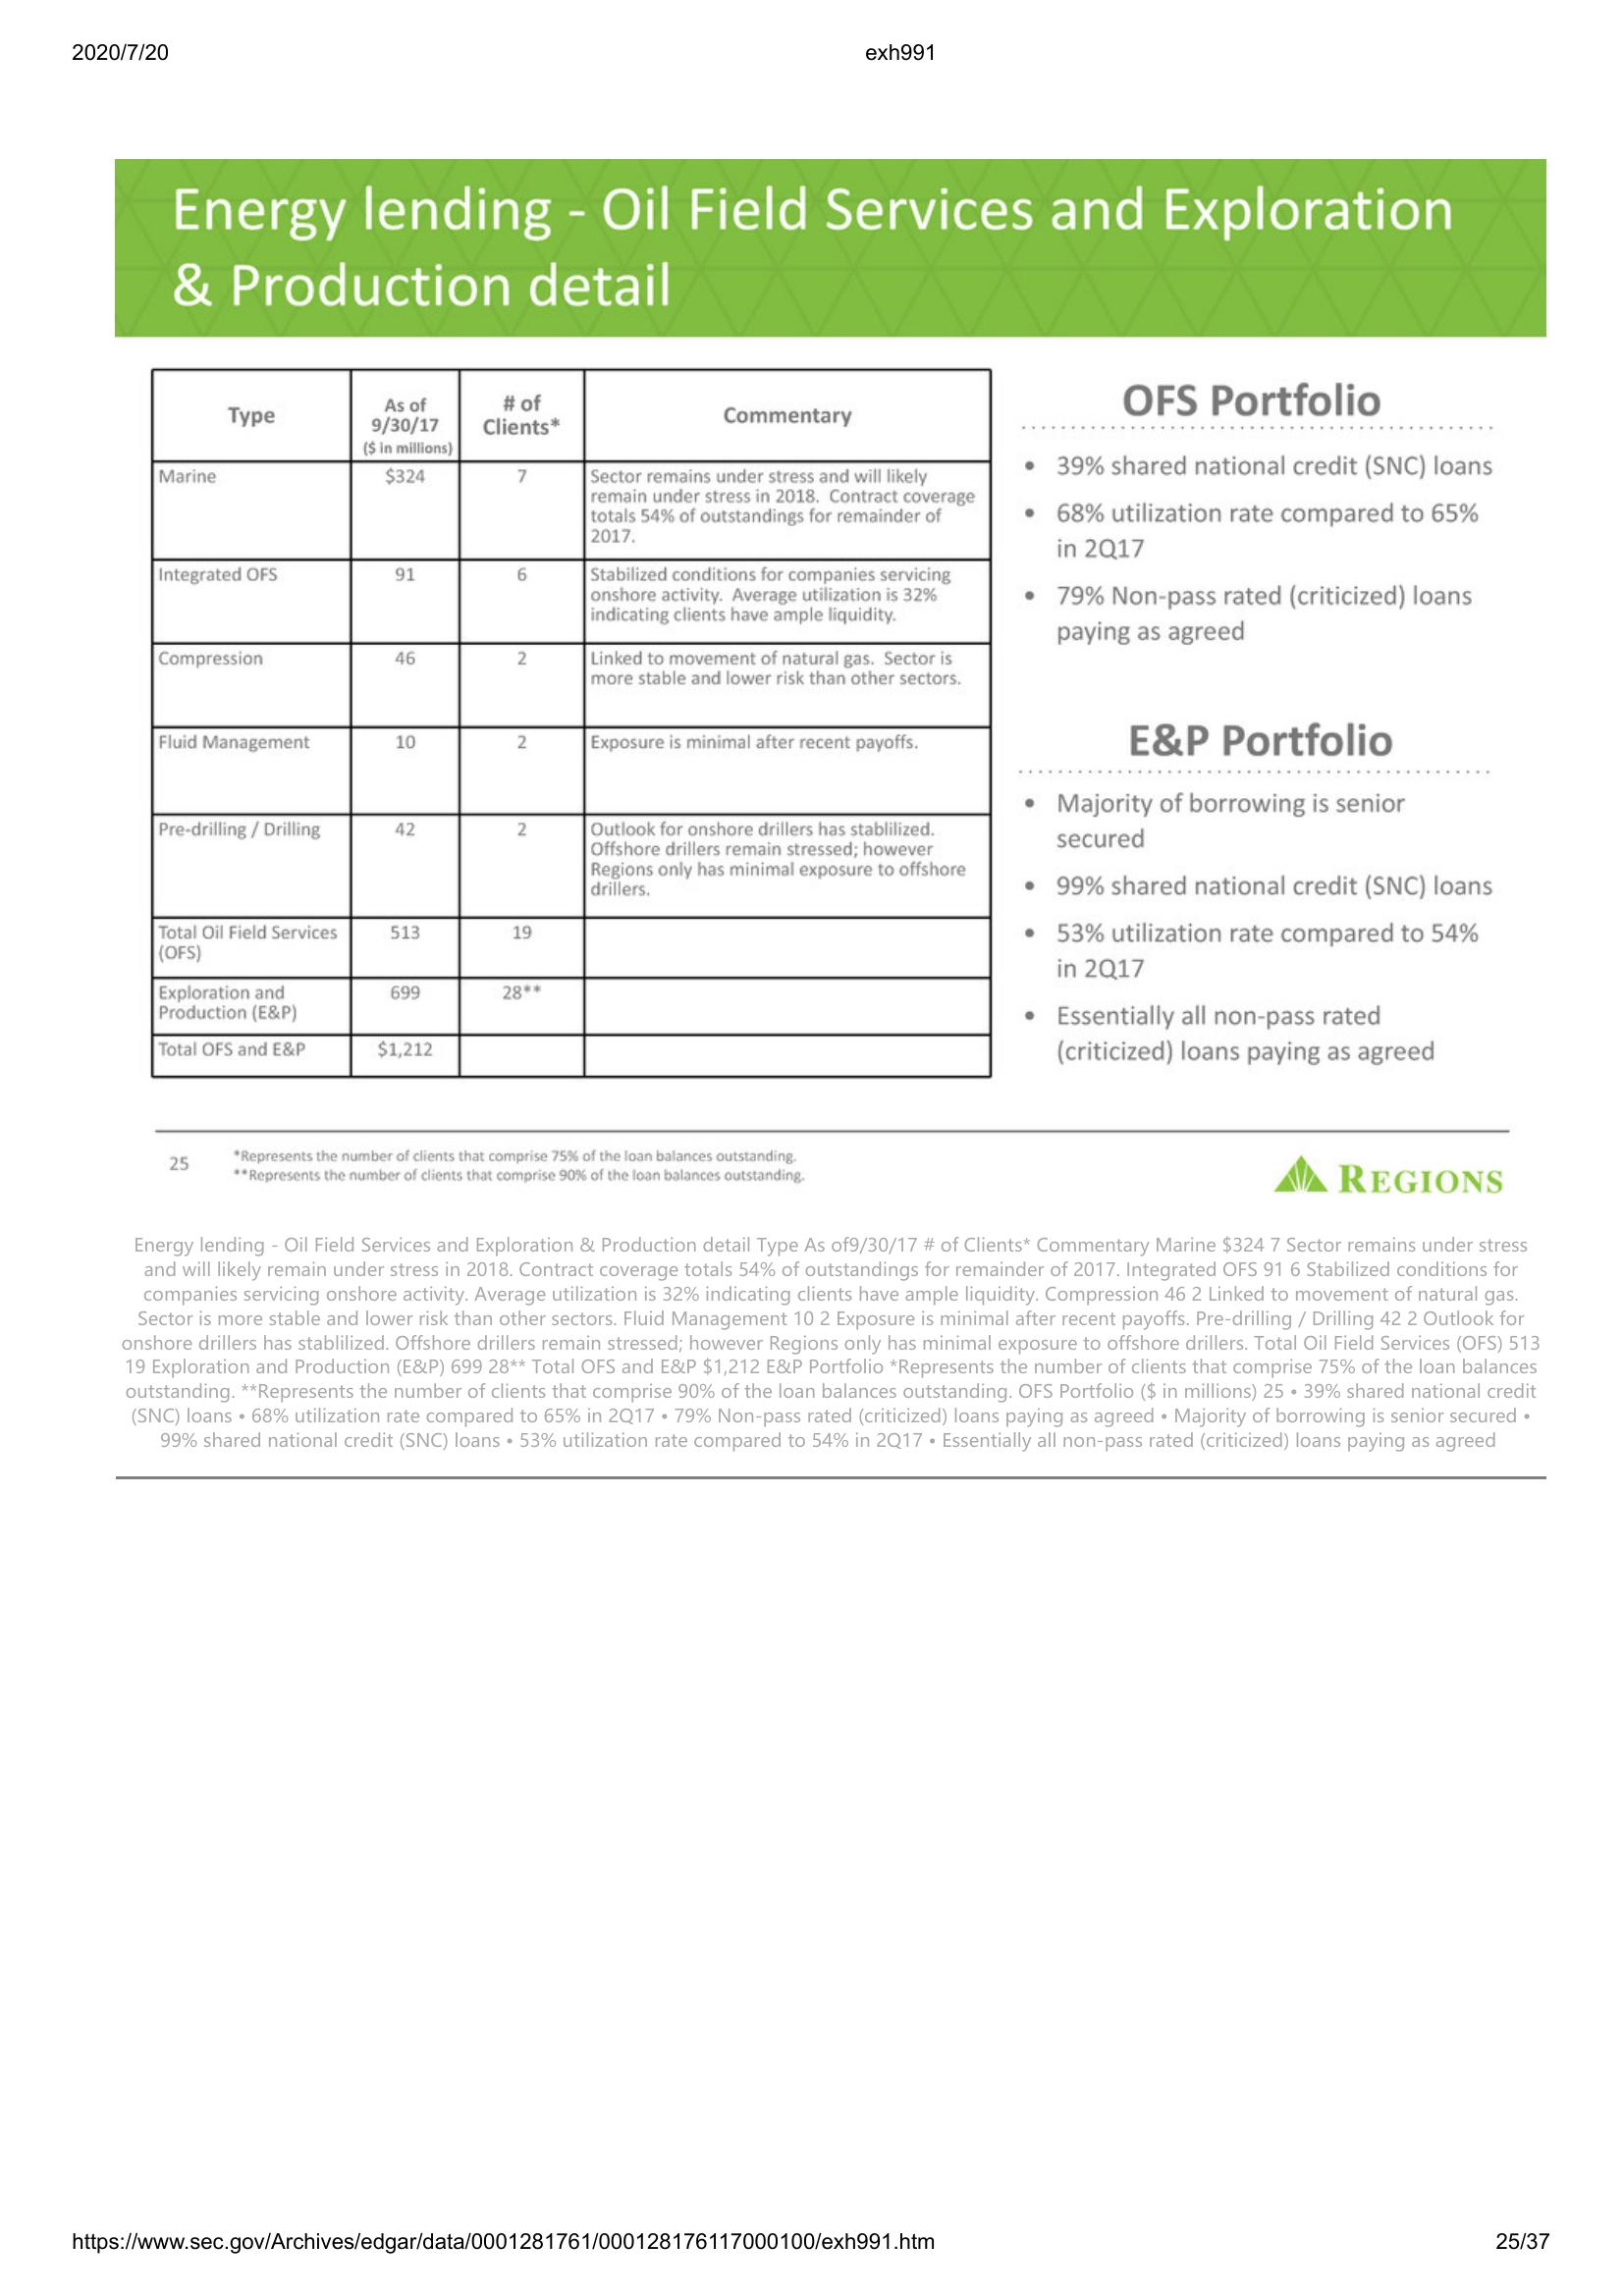table: (144, 363, 1003, 1090)
